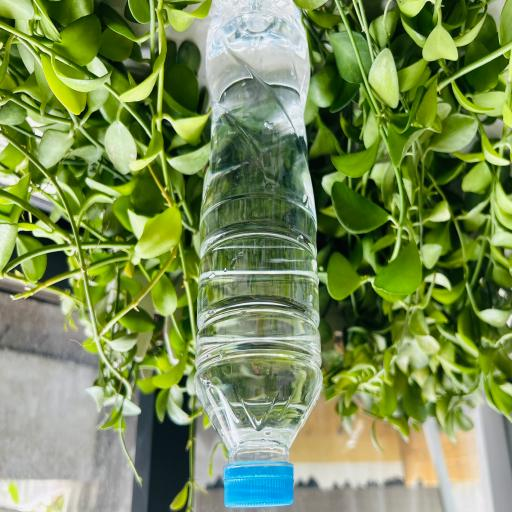bottle: (194, 0, 322, 507)
